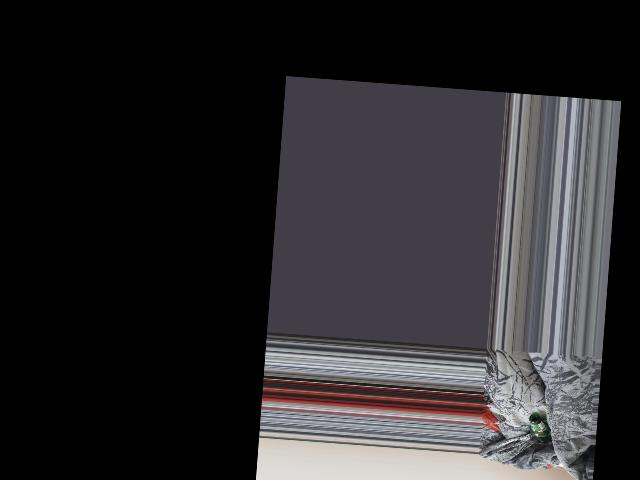beer: (528, 414, 551, 442)
